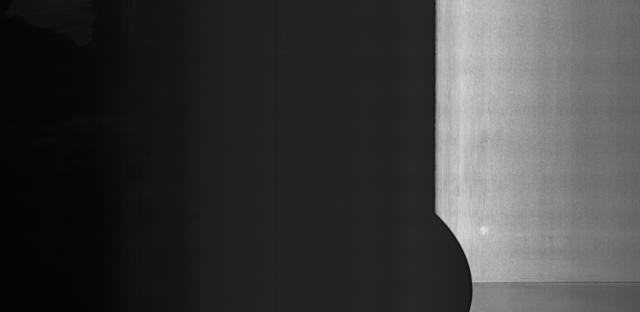crescent_gap: (428, 206, 478, 312)
welding_line: (473, 277, 640, 286)
